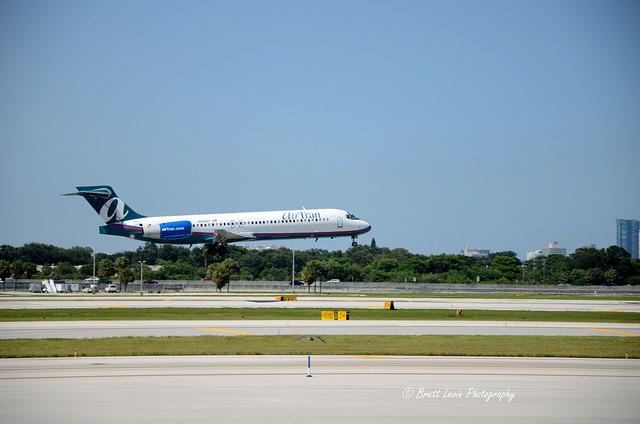airplane: (56, 167, 370, 266)
